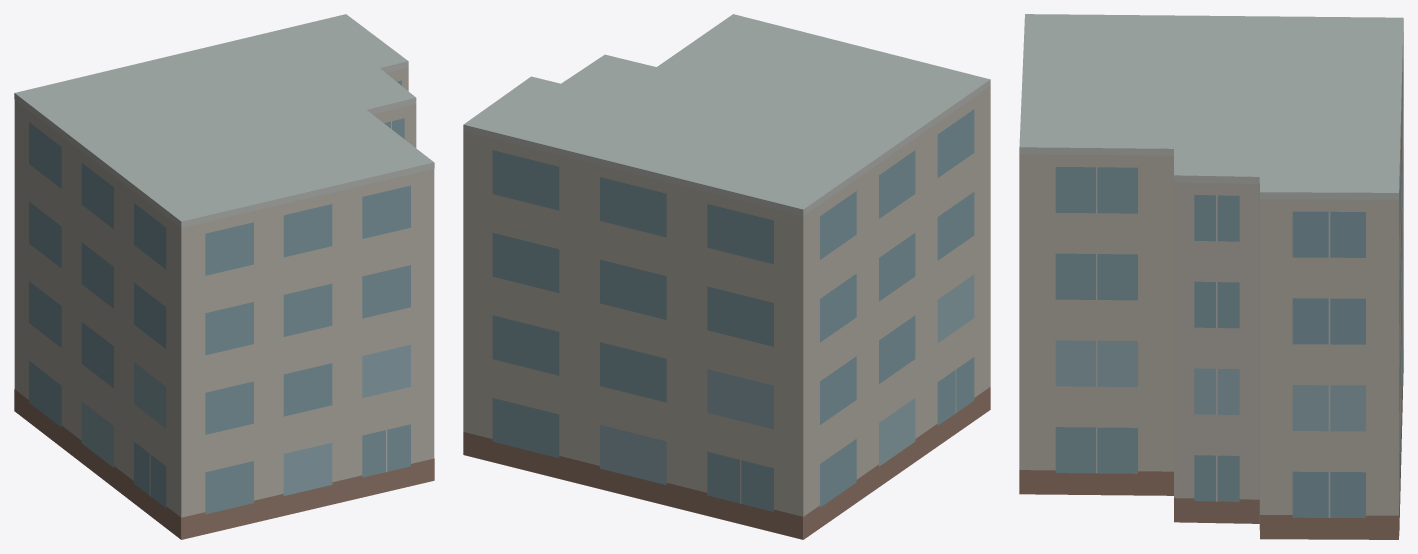
The model's file is survey-upis-32678170.glb.
The picture shows the model from 3 angles, left to right: view 1: azimuth 30°, elevation 25°; view 2: azimuth 150°, elevation 25°; view 3: azimuth 270°, elevation 25°; orthographic projection. The views are drawn at different scales.
Visible parts, largest first — view 1: survey-upis-32678170.tmp; view 2: survey-upis-32678170.tmp; view 3: survey-upis-32678170.tmp.
Part boxes in pixels (<box>): survey-upis-32678170.tmp: <box>14,14,434,539</box>; survey-upis-32678170.tmp: <box>463,14,990,539</box>; survey-upis-32678170.tmp: <box>1019,14,1403,539</box>.
Bounding box in the file's own units: 13.61 × 12.3 × 12.35.
